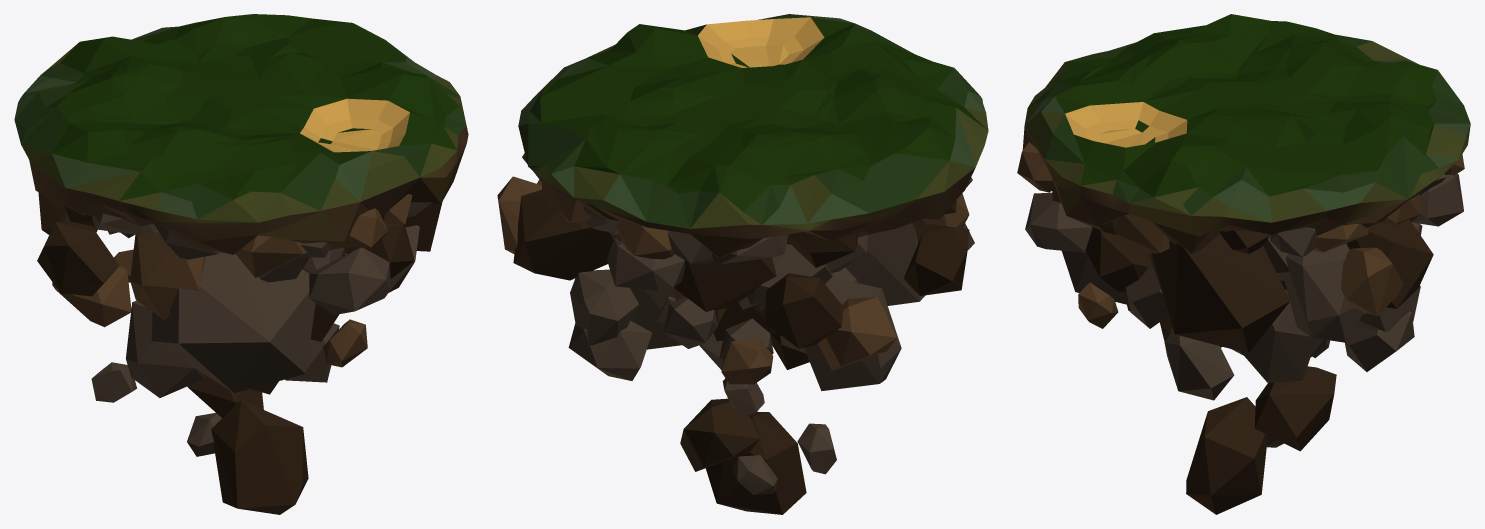
Rendered from SUELO.FBX.
3 renders of one model, left to right at view 1: azimuth 30°, elevation 25°; view 2: azimuth 150°, elevation 25°; view 3: azimuth 270°, elevation 25°, orthographic. The views are drawn at different scales.
Parts seen in each view (by area): view 1: suelo, roca suelo75, roca suelo90, roca suelo25, roca suelo32, roca suelo49, roca suelo05, roca suelo06, roca suelo44, roca suelo19, roca suelo17, roca suelo18 (+12 smaller); view 2: suelo, roca suelo79, roca suelo90, roca suelo03, roca suelo19, roca suelo75, roca suelo47, roca suelo08, roca suelo25, roca suelo05, roca suelo06, roca suelo02 (+19 smaller); view 3: suelo, roca suelo77, roca suelo90, roca suelo76, roca suelo19, roca suelo09, roca suelo07, roca suelo79, roca suelo27, roca suelo32, roca suelo18, roca suelo02 (+12 smaller).
Part boxes in pixels (x1=…): suelo: x1=14, y1=14, x2=468, y2=254; roca suelo75: x1=151, y1=252, x2=315, y2=392; roca suelo90: x1=211, y1=400, x2=308, y2=514; roca suelo25: x1=37, y1=221, x2=119, y2=296; roca suelo32: x1=309, y1=247, x2=390, y2=314; roca suelo49: x1=130, y1=231, x2=205, y2=320; roca suelo05: x1=126, y1=300, x2=204, y2=397; roca suelo06: x1=52, y1=266, x2=131, y2=327; roca suelo44: x1=235, y1=235, x2=307, y2=277; roca suelo19: x1=187, y1=375, x2=263, y2=417; roca suelo17: x1=323, y1=319, x2=367, y2=367; roca suelo18: x1=344, y1=223, x2=414, y2=278; suelo: x1=518, y1=14, x2=988, y2=258; roca suelo79: x1=513, y1=189, x2=615, y2=280; roca suelo90: x1=705, y1=411, x2=806, y2=514; roca suelo03: x1=764, y1=273, x2=843, y2=348; roca suelo19: x1=680, y1=398, x2=759, y2=471; roca suelo75: x1=845, y1=223, x2=974, y2=305; roca suelo47: x1=673, y1=257, x2=776, y2=312; roca suelo08: x1=570, y1=269, x2=638, y2=348; roca suelo25: x1=904, y1=224, x2=969, y2=295; roca suelo05: x1=804, y1=278, x2=901, y2=391; roca suelo06: x1=817, y1=296, x2=896, y2=370; roca suelo02: x1=568, y1=320, x2=652, y2=380; suelo: x1=1022, y1=14, x2=1470, y2=254; roca suelo77: x1=1150, y1=234, x2=1290, y2=353; roca suelo90: x1=1186, y1=397, x2=1267, y2=514; roca suelo76: x1=1284, y1=243, x2=1364, y2=342; roca suelo19: x1=1254, y1=366, x2=1336, y2=451; roca suelo09: x1=1240, y1=289, x2=1316, y2=382; roca suelo07: x1=1164, y1=330, x2=1234, y2=400; roca suelo79: x1=1346, y1=219, x2=1433, y2=308; roca suelo27: x1=1341, y1=247, x2=1403, y2=316; roca suelo32: x1=1025, y1=192, x2=1092, y2=252; roca suelo18: x1=1085, y1=227, x2=1150, y2=291; roca suelo02: x1=1345, y1=311, x2=1414, y2=371.
Bounding box in the file's own units: 761 × 767 × 752.
